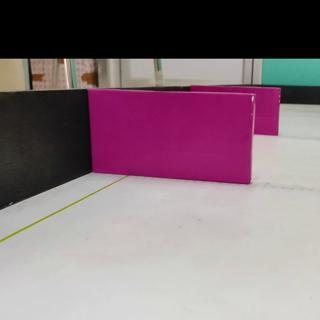xparking: (98, 92, 253, 183), (259, 87, 279, 135)
